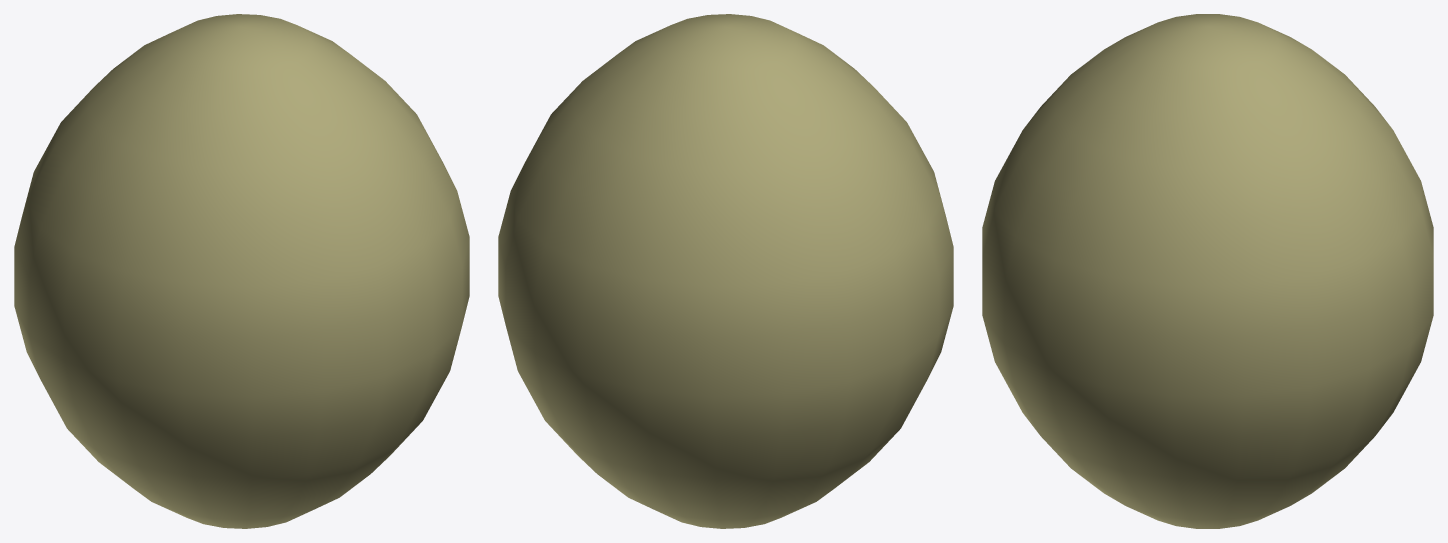
Rendered from Olafur_col.fbx.
The picture shows the model from 3 angles, left to right: view 1: azimuth 30°, elevation 25°; view 2: azimuth 150°, elevation 25°; view 3: azimuth 270°, elevation 25°; orthographic projection.
Visible parts, largest first — view 1: OlafurIn1; view 2: OlafurIn1; view 3: OlafurIn1.
Boxes of the visible parts, left/top/right/bottom form: OlafurIn1: left=14, top=14, right=469, bottom=528; OlafurIn1: left=498, top=14, right=953, bottom=528; OlafurIn1: left=982, top=14, right=1433, bottom=528.
Bounding box in the file's own units: 3.36 × 4.02 × 3.36.
